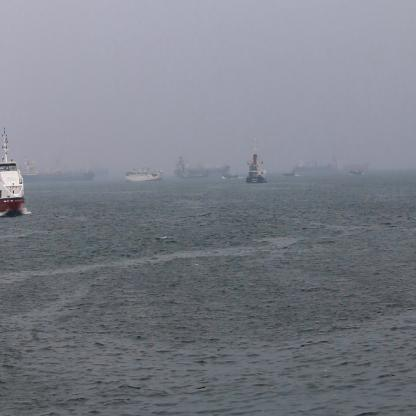Container Ship: (22, 157, 96, 183), (172, 153, 232, 176), (246, 140, 266, 184), (290, 156, 338, 171), (125, 166, 164, 182), (342, 160, 371, 170)
